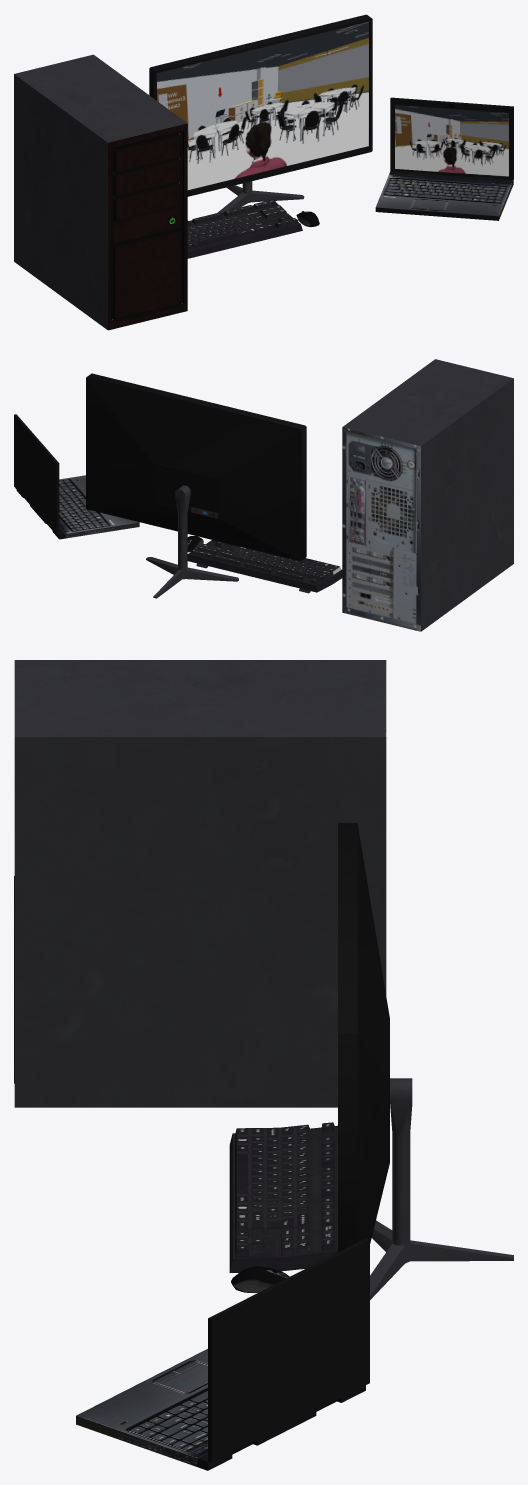
Rendered from SoalAntro.fbx.
3 views of the same model, one above another, from view 1: azimuth 30°, elevation 25°; view 2: azimuth 150°, elevation 25°; view 3: azimuth 270°, elevation 25° (orthographic). The views are drawn at different scales.
Visible parts, largest first — view 1: Object_2; view 2: Object_2; view 3: Object_2.
Boxes of the visible parts, x1,y1,x2,y2 form: Object_2: (14,14,513,330); Object_2: (14,359,513,631); Object_2: (14,660,513,1470).
Size of the model in its own units: 137 by 54.18 by 65.87.
